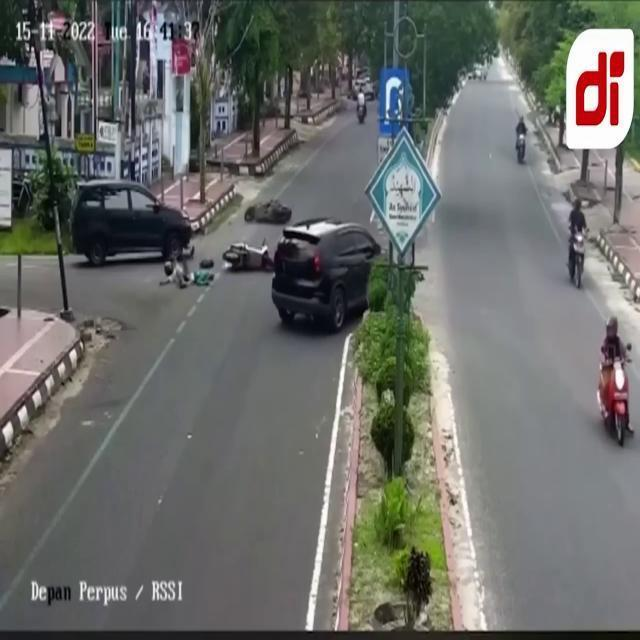accident: (160, 195, 294, 292)
